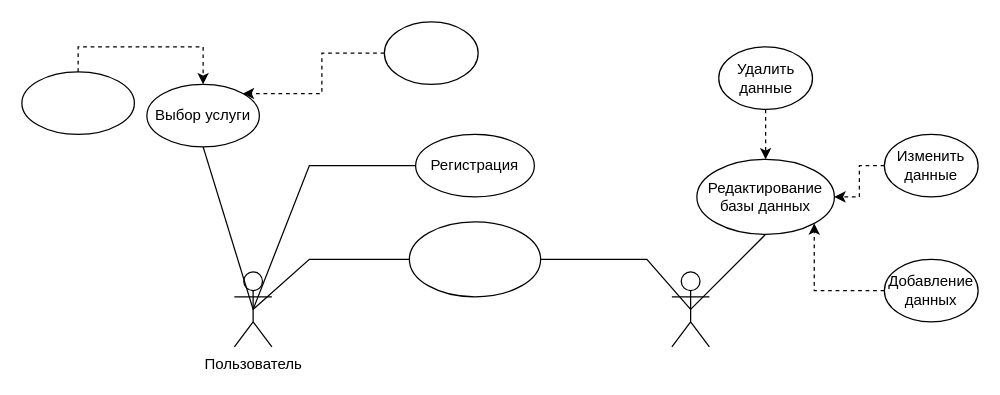
Image size: 1000x395. Some labels were removed from this diagram. The box of each missing label's shape, as (x1, y1, x2, y2) in pixels:
Админ: (671, 271, 709, 347)
Войти в уч. запись: (408, 221, 541, 297)
Выбрать ипотеку: (383, 21, 478, 84)
Выбрать кредит: (21, 71, 134, 134)
